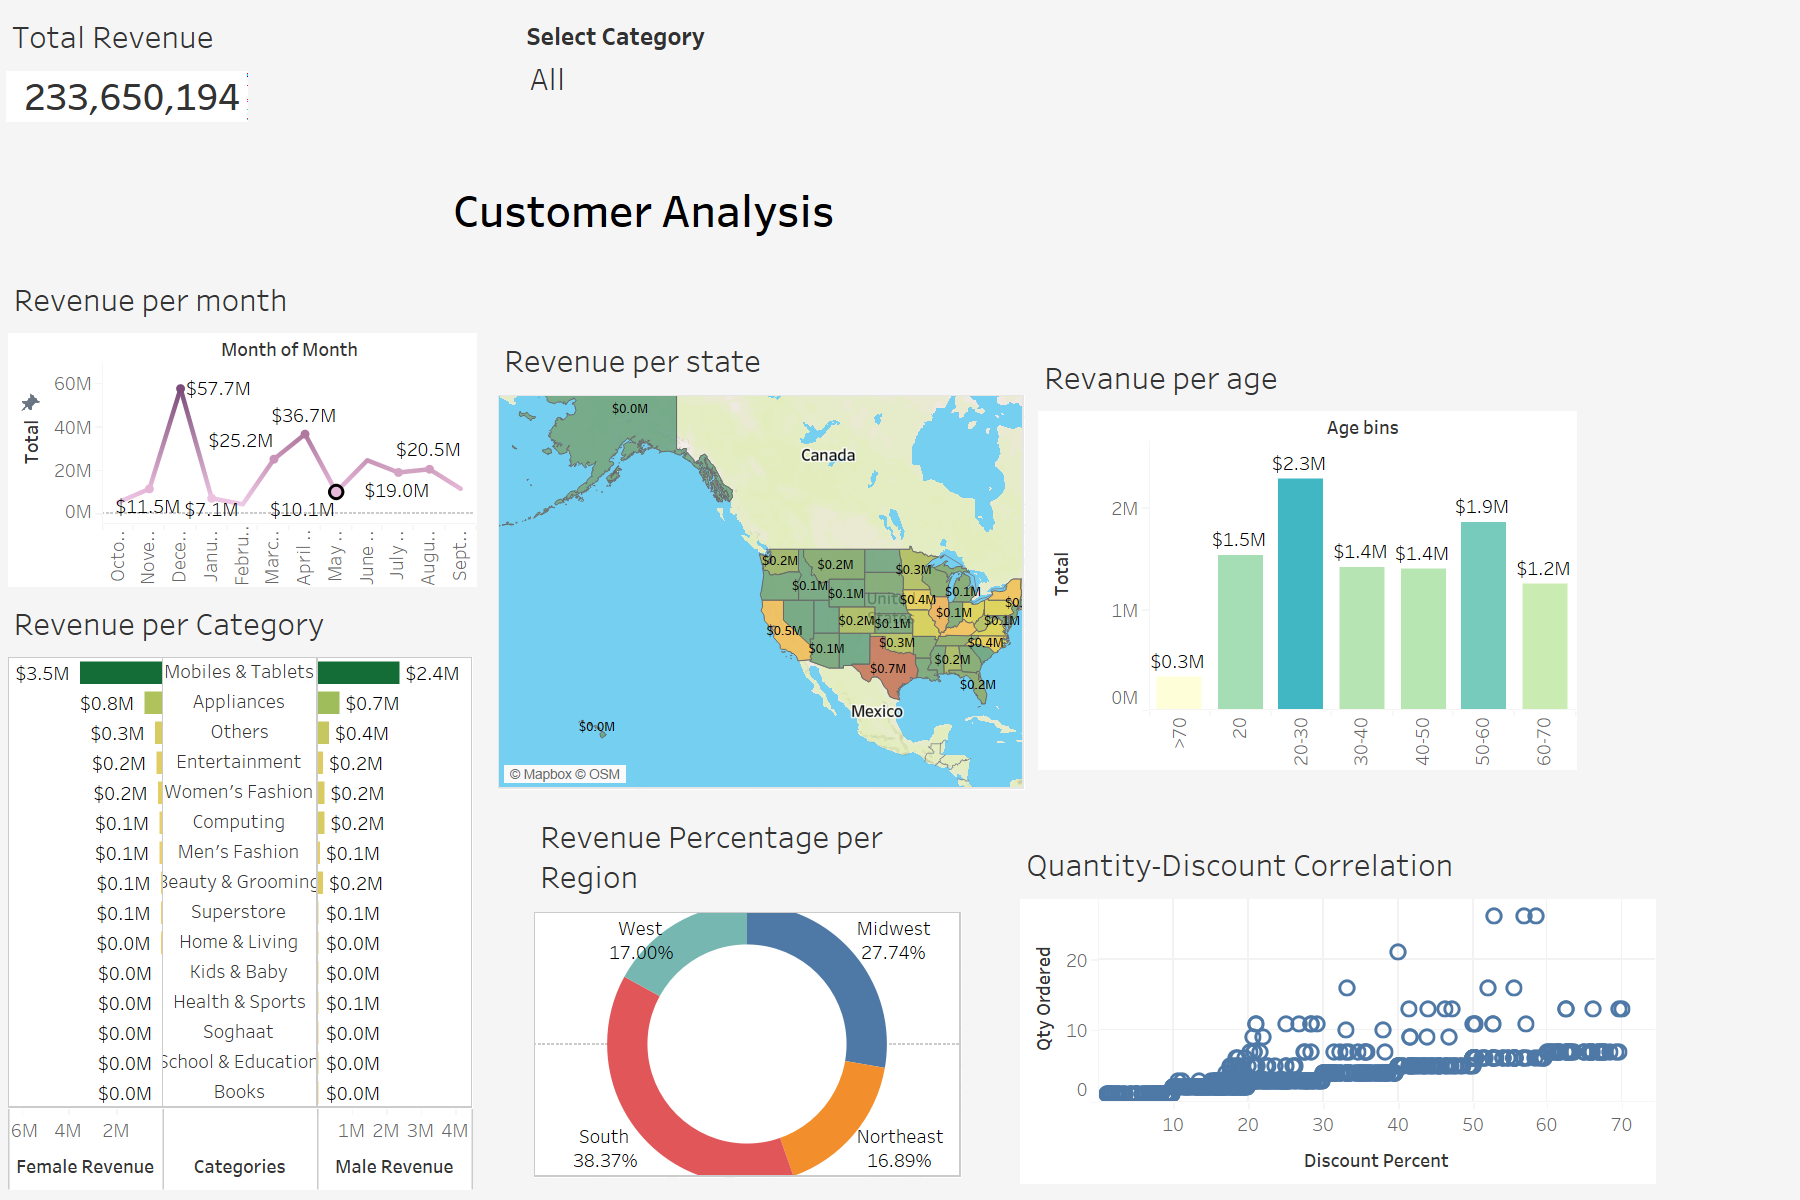

Layout of this report page (visuals, bound fields, positions):
{"tool":"tableau","page":{"name":"Dashboard 1","canvas":[1200,800],"ordinal":0},"visuals":[{"type":"worksheet","title":"Total Revenue","mark":"Automatic","box":[0,0,1200,800]},{"type":"filter","title":"Revenue per Category","param":"[federated.14dsjk80sf9owc12kbx7c0df3e8k].[none:category:nk]","box":[351,12,431,49]},{"type":"text","box":[286,123,286,32]},{"type":"worksheet","title":"Revenue per month","mark":"Automatic","rows":["total"],"cols":["month"],"box":[5,179,313,213]},{"type":"worksheet","title":"Revenue per state","mark":"Automatic","box":[332,220,351,306]},{"type":"worksheet","title":"Revanue per age","mark":"Automatic","rows":["total"],"cols":["Age (bin)"],"box":[689,230,351,282]},{"type":"worksheet","title":"Revenue Percentage per Region","mark":"Pie","rows":["Calculation_902127313669586944","Calculation_902127313669586944"],"box":[18,398,299,273]}]}

Visuals, with their boxes in screenshot pixels (x1, y1, x2, y2), scaled from the page's 1200x800 canvas onto the 1800x1200 screenshot:
"Total Revenue" worksheet: select_region(0, 0, 1799, 1199)
"Revenue per Category" filter: select_region(526, 18, 1173, 92)
text: select_region(429, 184, 858, 232)
"Revenue per month" worksheet: select_region(8, 268, 477, 588)
"Revenue per state" worksheet: select_region(498, 330, 1024, 789)
"Revanue per age" worksheet: select_region(1034, 345, 1560, 768)
"Revenue Percentage per Region" worksheet (Pie marks): select_region(27, 597, 476, 1006)
